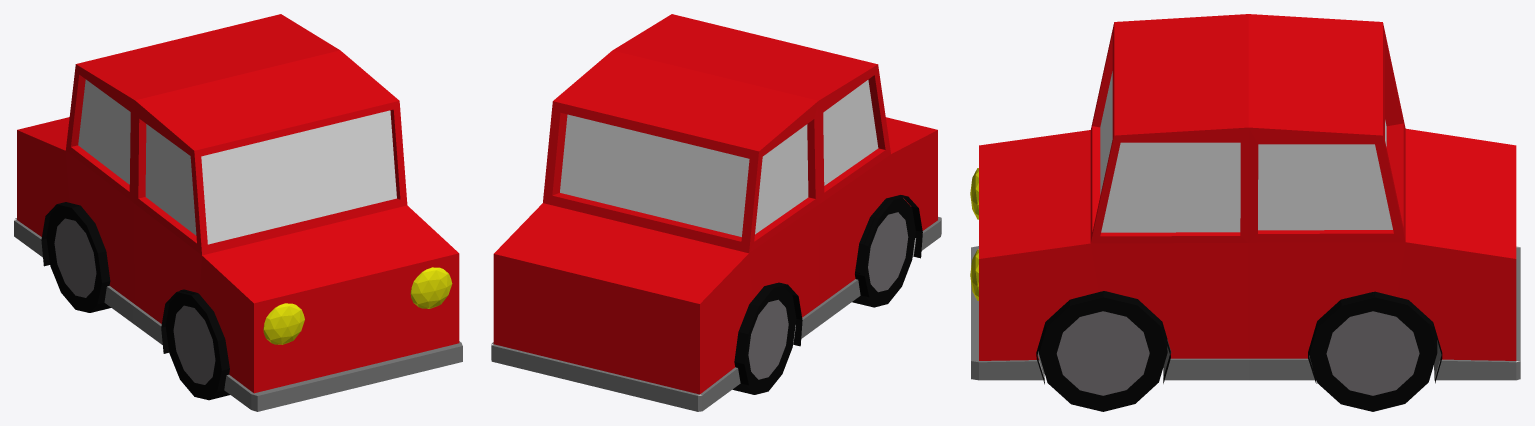
The model's file is Carro.fbx.
The picture shows the model from 3 angles, left to right: view 1: azimuth 30°, elevation 25°; view 2: azimuth 150°, elevation 25°; view 3: azimuth 270°, elevation 25°; orthographic projection. The views are drawn at different scales.
Parts seen in each view (by area): view 1: Capo; view 2: Capo; view 3: Capo.
Part boxes in pixels (x1,y1,x2,y2): Capo: (14,14,462,411); Capo: (491,14,941,411); Capo: (970,14,1520,411).
Size of the model in its own units: 55.34 by 57.76 by 102.
